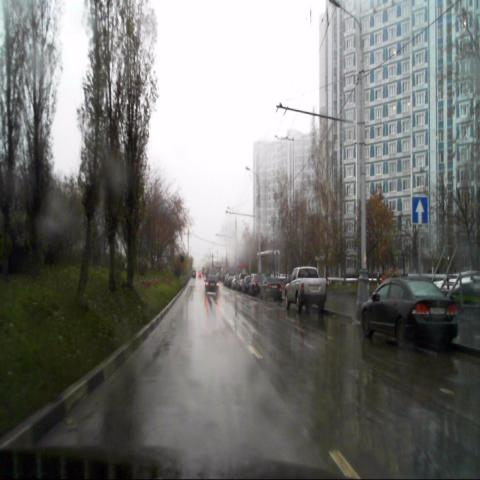5_5: (410, 196, 428, 225)
